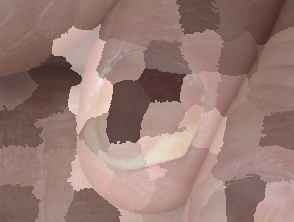Nail_psoriasis: (62, 8, 234, 211), (185, 148, 294, 222)
